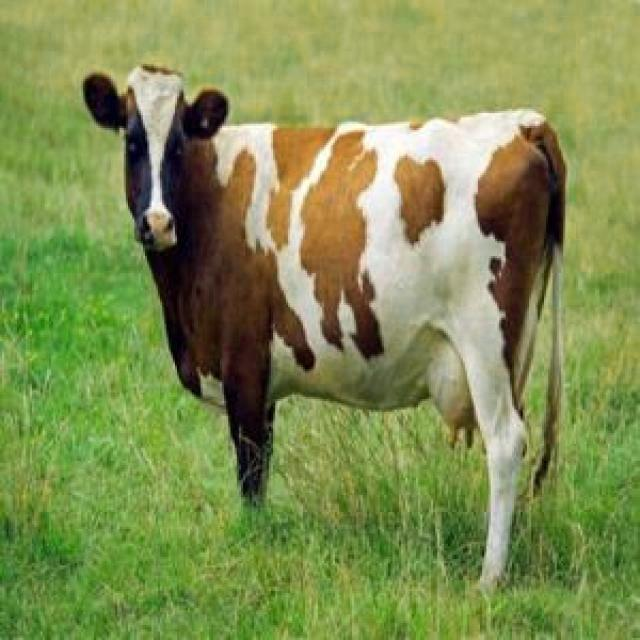cow: (84, 65, 566, 588)
